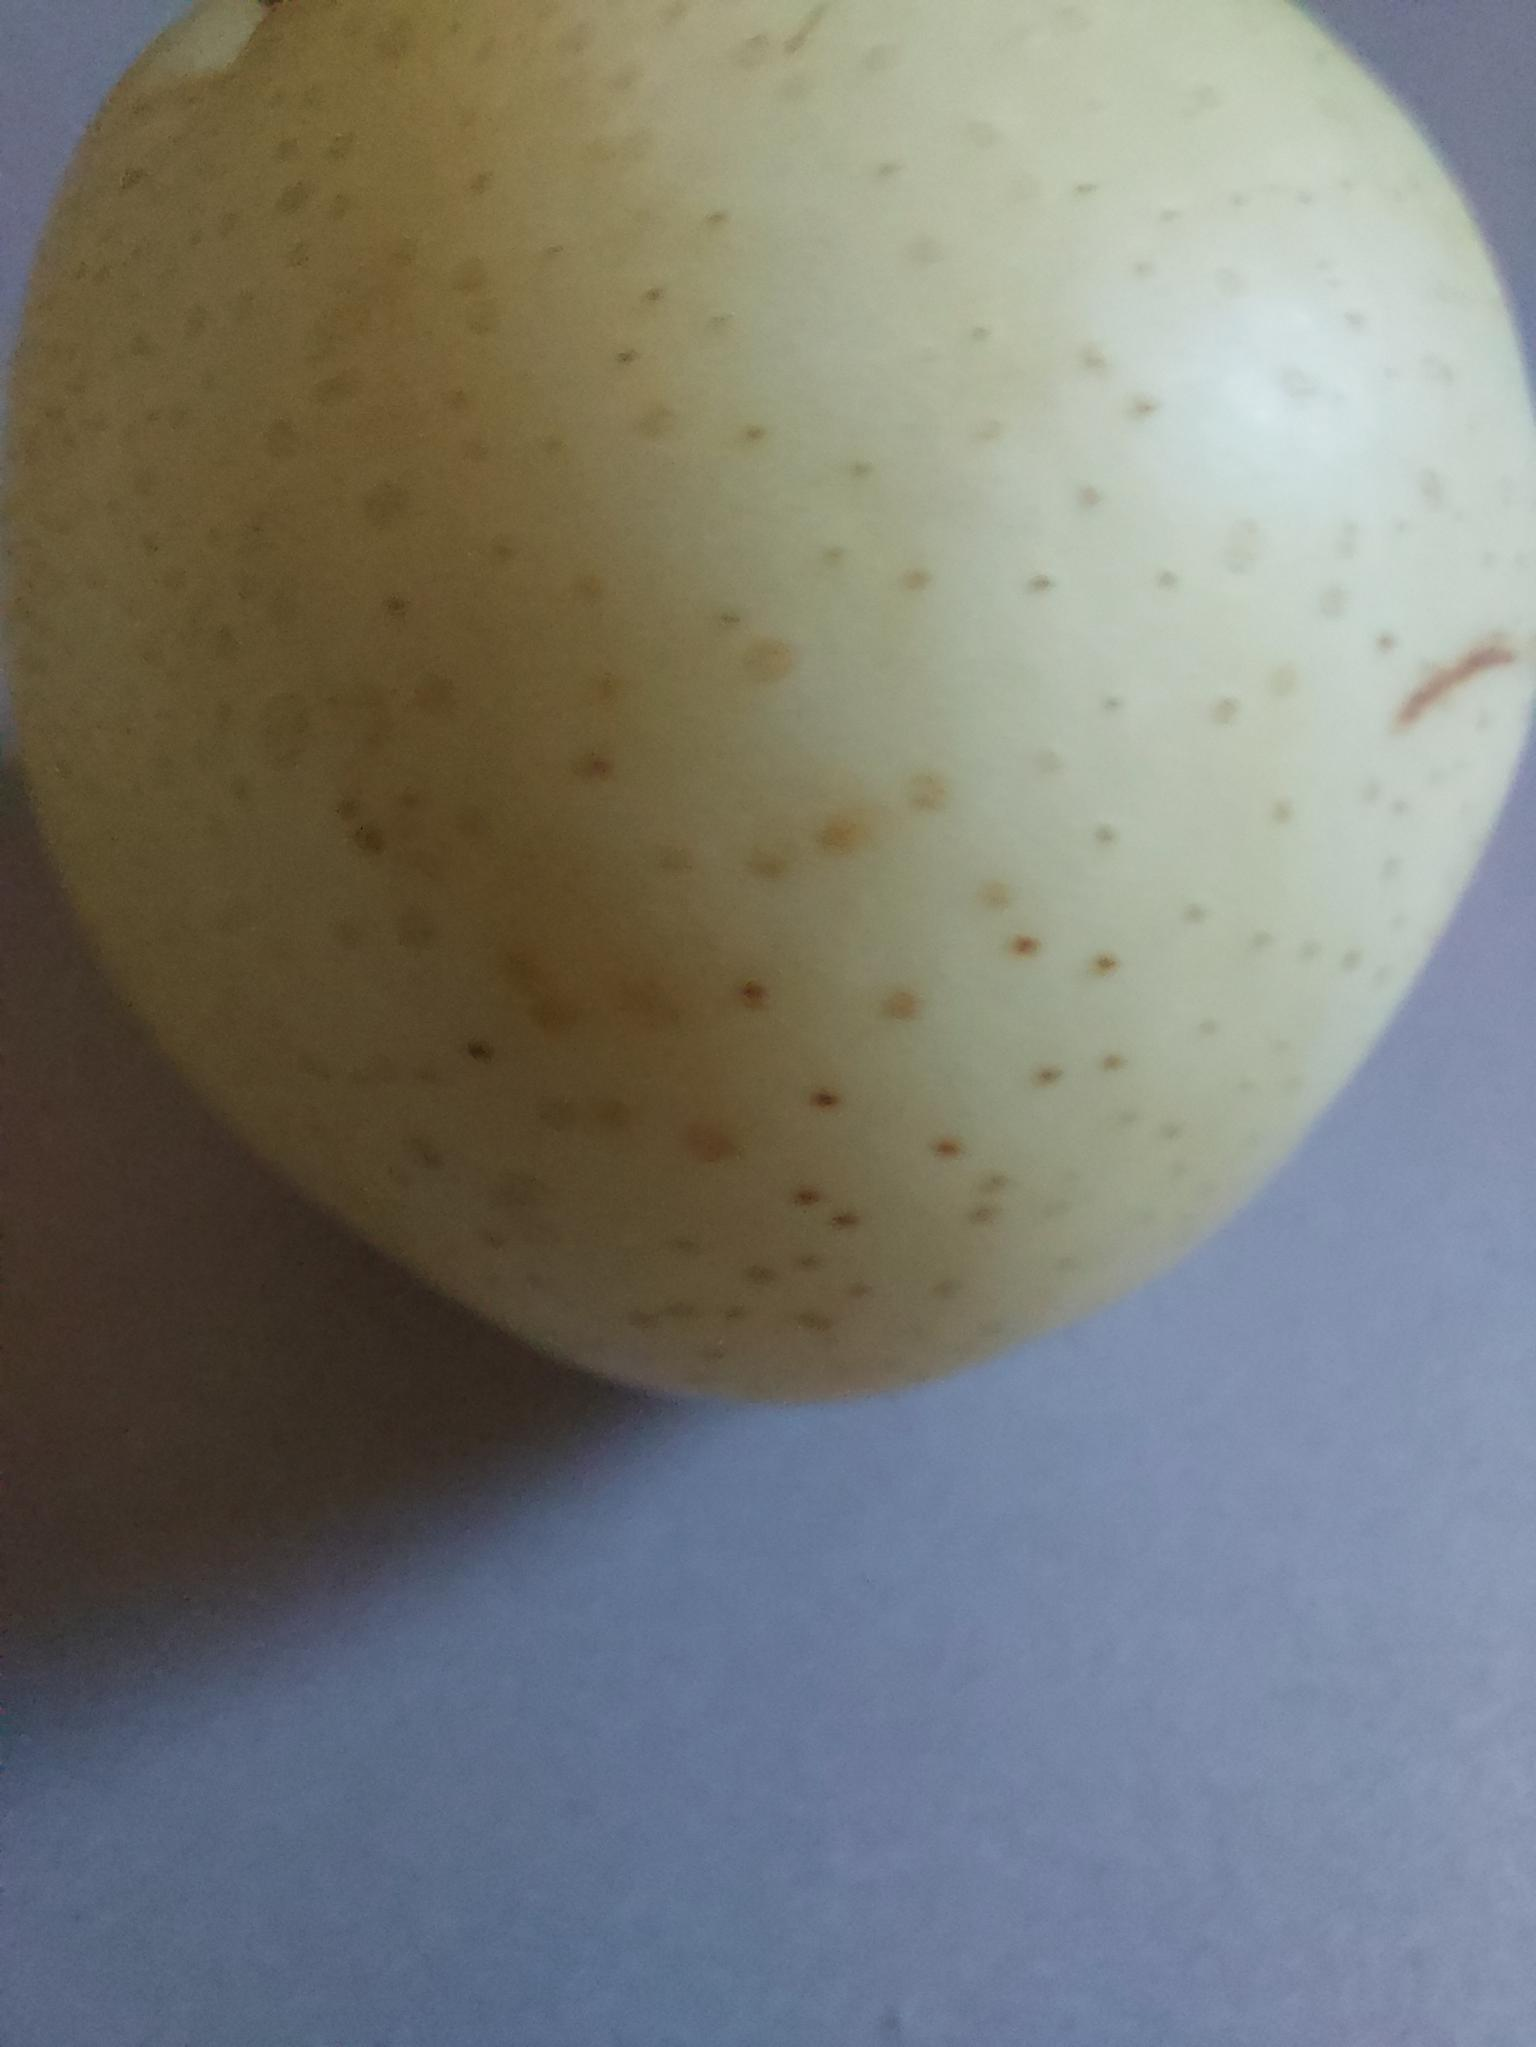Good Pear: (0, 5, 1536, 1402)
